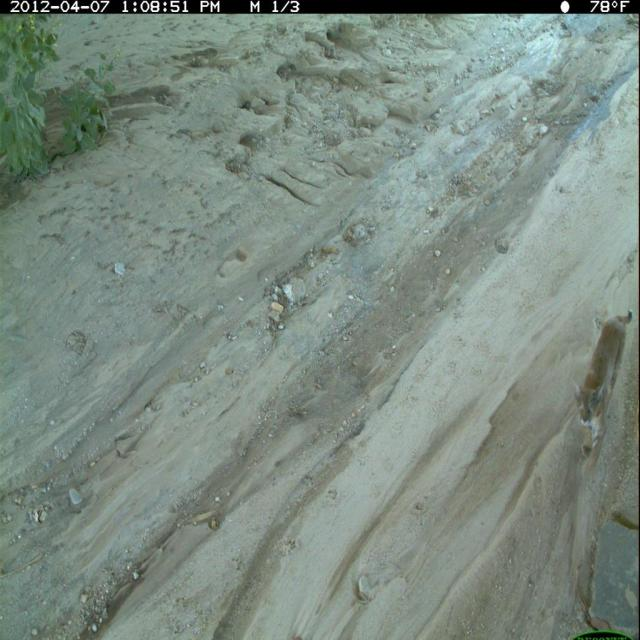bobcat: (570, 305, 636, 476)
